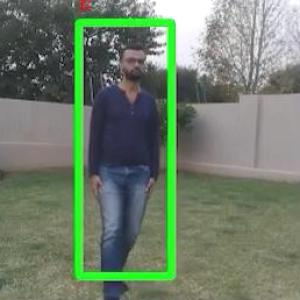follow: (80, 15, 165, 299)
